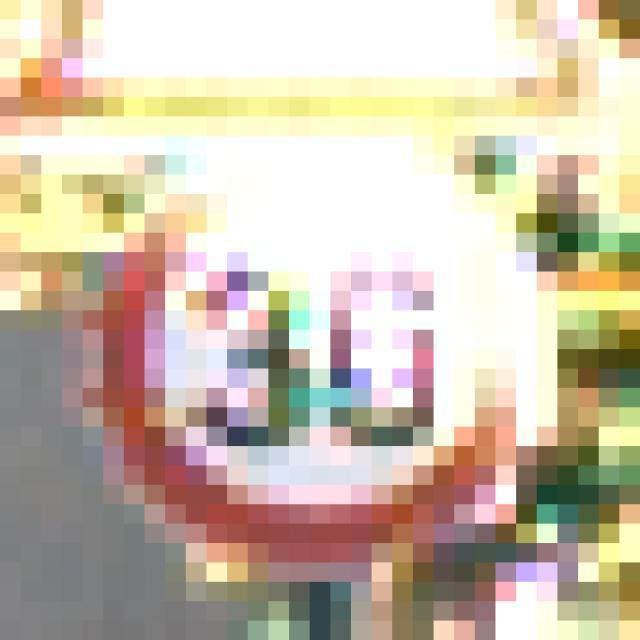Speed Limit -30-: (93, 106, 506, 534)
